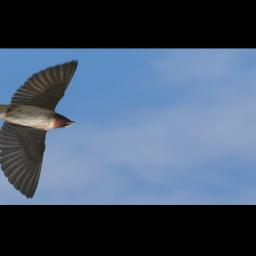Swallow: (0, 60, 79, 200)
